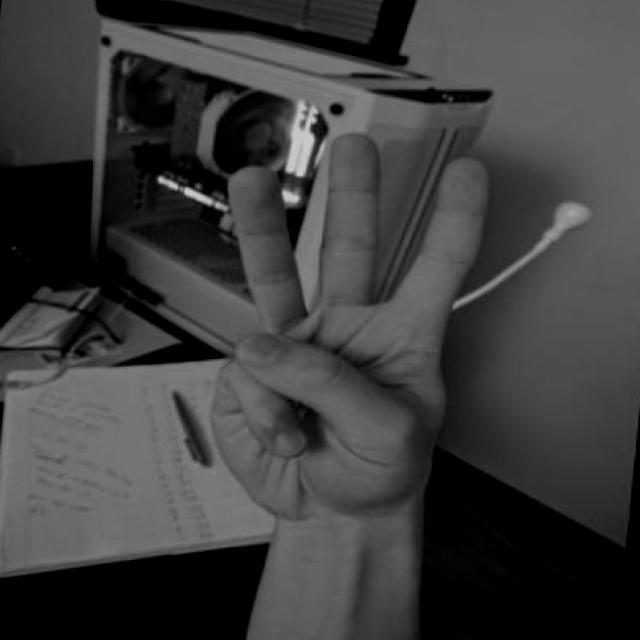W: (193, 125, 506, 561)
